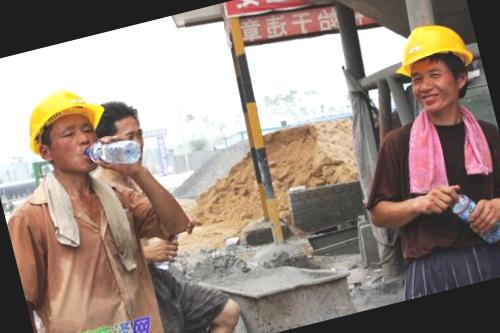no_helmet: (85, 90, 158, 178)
